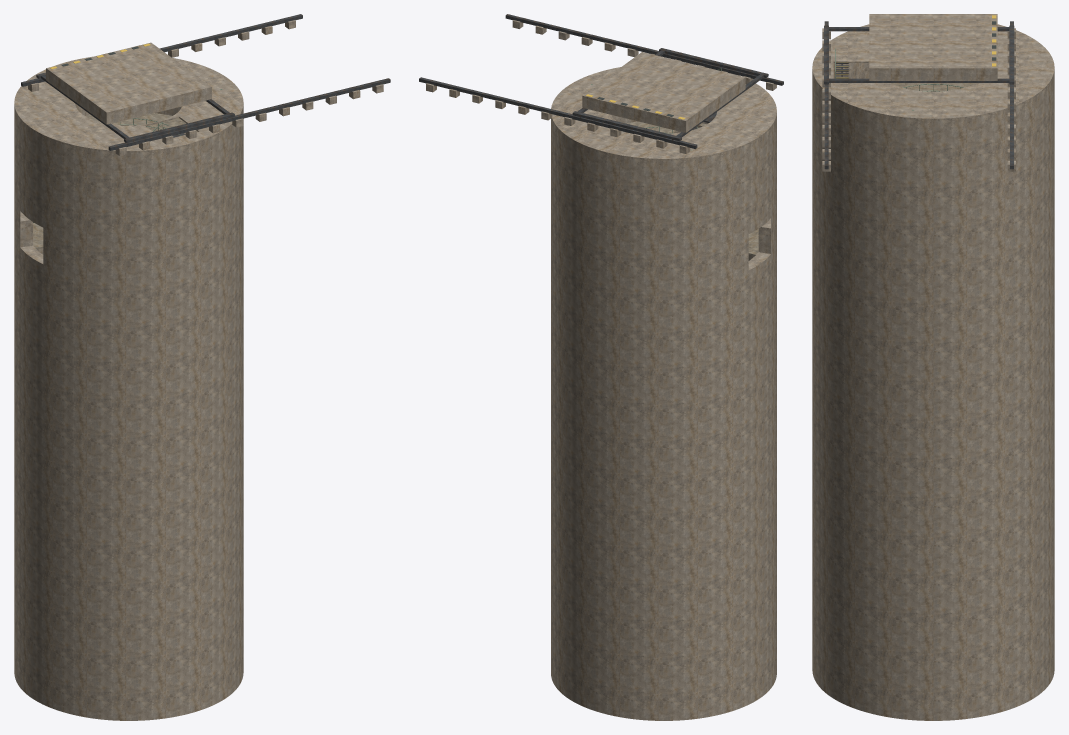
The model's file is coldwell-shaft.gltf.
3 views of the same model, side by side, from view 1: azimuth 30°, elevation 25°; view 2: azimuth 150°, elevation 25°; view 3: azimuth 270°, elevation 25° (orthographic). The views are drawn at different scales.
Visible parts, largest first — view 1: shaft-exterior-21-concrete-42, shaft-cover-22-concrete-171, shaft-exterior-16-concrete-32, shaft-exterior-20-concrete-40, shaft-exterior-15-concrete-30, shaft-exterior-14-concrete-28, shaft-exterior-4-concrete-8, shaft-exterior-6-concrete-12, shaft-exterior-3-concrete-6, shaft-exterior-7-concrete-14, shaft-exterior-13-concrete-26, shaft-exterior-0-concrete-0 (+16 smaller); view 2: shaft-exterior-21-concrete-42, shaft-cover-22-concrete-171, shaft-floor-22-concrete-156, shaft-exterior-16-concrete-32, shaft-exterior-20-concrete-40, shaft-exterior-15-concrete-30, shaft-exterior-3-concrete-6, shaft-exterior-12-concrete-24, shaft-exterior-19-concrete-38, shaft-exterior-1-concrete-2, shaft-exterior-2-concrete-4, shaft-exterior-5-concrete-10 (+15 smaller); view 3: shaft-exterior-21-concrete-42, shaft-cover-22-concrete-171, shaft-floor-22-concrete-156, shaft-exterior-2-concrete-4, shaft-exterior-10-concrete-20, shaft-exterior-18-concrete-36, shaft-exterior-5-concrete-10, shaft-exterior-13-concrete-26, shaft-exterior-0-concrete-0, shaft-exterior-7-concrete-14, shaft-exterior-8-concrete-16, shaft-exterior-15-concrete-30 (+16 smaller).
Boxes of the visible parts, <box> form: shaft-exterior-21-concrete-42: <box>14,56,243,176</box>; shaft-cover-22-concrete-171: <box>46,42,211,124</box>; shaft-exterior-16-concrete-32: <box>14,233,243,306</box>; shaft-exterior-20-concrete-40: <box>14,103,243,202</box>; shaft-exterior-15-concrete-30: <box>14,248,243,332</box>; shaft-exterior-14-concrete-28: <box>14,285,243,358</box>; shaft-exterior-4-concrete-8: <box>14,544,243,617</box>; shaft-exterior-6-concrete-12: <box>14,492,243,565</box>; shaft-exterior-3-concrete-6: <box>14,570,243,643</box>; shaft-exterior-7-concrete-14: <box>14,466,243,539</box>; shaft-exterior-13-concrete-26: <box>14,311,243,384</box>; shaft-exterior-0-concrete-0: <box>14,648,243,720</box>; shaft-exterior-21-concrete-42: <box>551,67,776,184</box>; shaft-cover-22-concrete-171: <box>582,52,745,132</box>; shaft-floor-22-concrete-156: <box>551,67,776,160</box>; shaft-exterior-16-concrete-32: <box>551,241,776,312</box>; shaft-exterior-20-concrete-40: <box>551,115,776,209</box>; shaft-exterior-15-concrete-30: <box>551,254,776,337</box>; shaft-exterior-3-concrete-6: <box>551,573,776,644</box>; shaft-exterior-12-concrete-24: <box>551,343,776,414</box>; shaft-exterior-19-concrete-38: <box>551,126,776,235</box>; shaft-exterior-1-concrete-2: <box>551,624,776,695</box>; shaft-exterior-2-concrete-4: <box>551,598,776,669</box>; shaft-exterior-5-concrete-10: <box>551,522,776,593</box>; shaft-exterior-21-concrete-42: <box>812,24,1054,145</box>; shaft-cover-22-concrete-171: <box>869,14,997,80</box>; shaft-floor-22-concrete-156: <box>812,25,1054,119</box>; shaft-exterior-2-concrete-4: <box>812,589,1054,666</box>; shaft-exterior-10-concrete-20: <box>812,370,1054,447</box>; shaft-exterior-18-concrete-36: <box>812,151,1054,228</box>; shaft-exterior-5-concrete-10: <box>812,507,1054,583</box>; shaft-exterior-13-concrete-26: <box>812,288,1054,364</box>; shaft-exterior-0-concrete-0: <box>812,644,1054,720</box>; shaft-exterior-7-concrete-14: <box>812,452,1054,529</box>; shaft-exterior-8-concrete-16: <box>812,425,1054,501</box>; shaft-exterior-15-concrete-30: <box>812,233,1054,310</box>.
Size of the model in its own units: 26.5 by 48.83 by 17.
7 materials, 5 textured.
